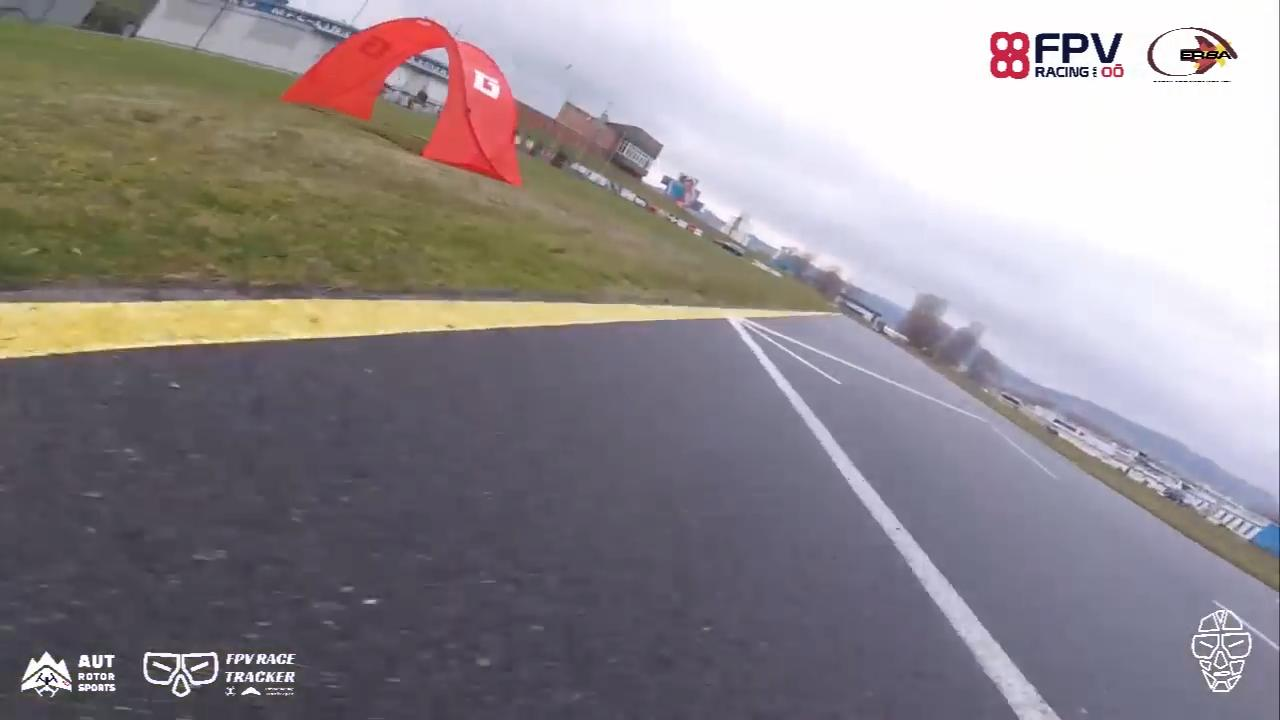gate: (274, 17, 525, 190)
